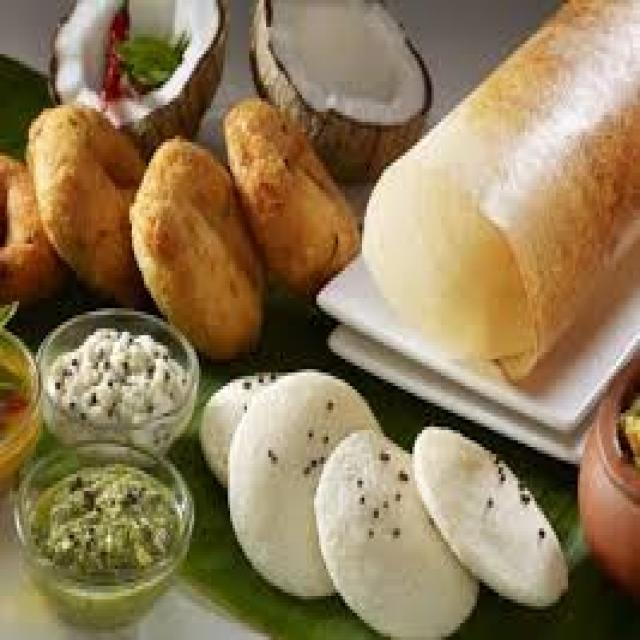dal: (19, 447, 181, 595), (51, 320, 192, 450)
papad: (309, 417, 566, 625), (219, 365, 382, 588)
sweet: (47, 318, 194, 448)
